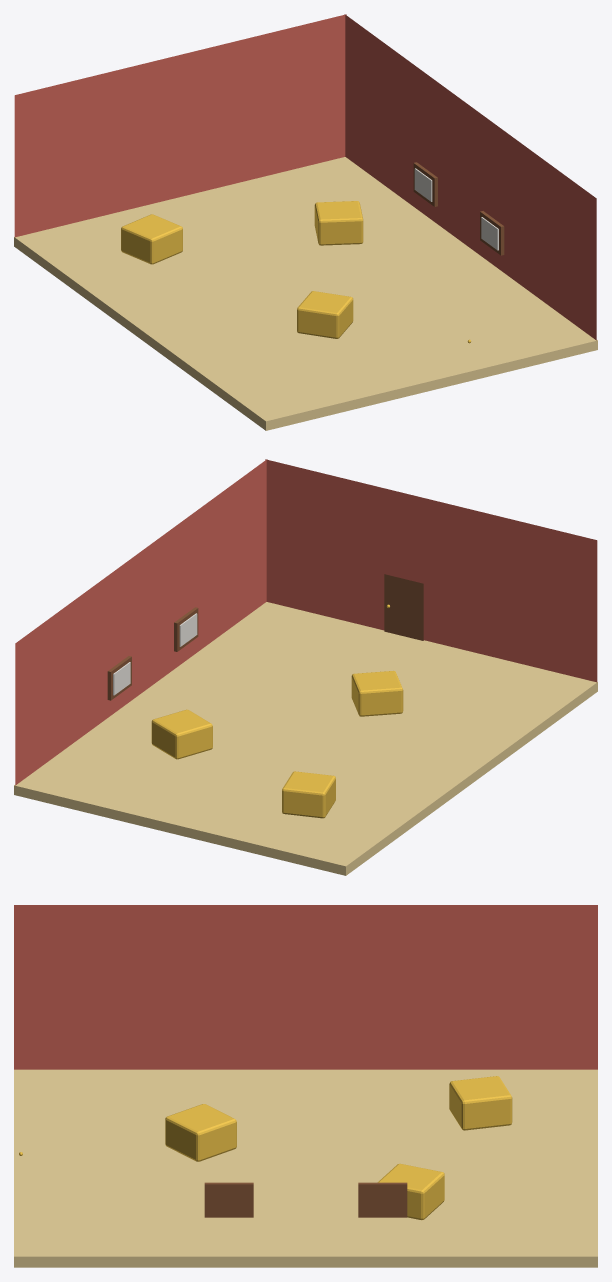
File: room_barn.glb
3 renders of one model, top to bottom at view 1: azimuth 30°, elevation 25°; view 2: azimuth 150°, elevation 25°; view 3: azimuth 270°, elevation 25°, orthographic. The views are drawn at different scales.
Parts seen in each view (by area): view 1: RoomN, Frame1, Frame2; view 2: RoomN, Frame2, Frame1; view 3: RoomN, Frame1, Frame2.
Part boxes in pixels (x1,y1,x2,y2): RoomN: (14, 14, 597, 430); Frame1: (413, 162, 437, 206); Frame2: (480, 211, 504, 255); RoomN: (14, 459, 597, 875); Frame2: (174, 607, 198, 651); Frame1: (107, 656, 131, 700); RoomN: (14, 905, 597, 1267); Frame1: (358, 1182, 407, 1217); Frame2: (204, 1182, 253, 1217).
Size of the model in its own units: 12.7 by 5.55 by 16.7.
